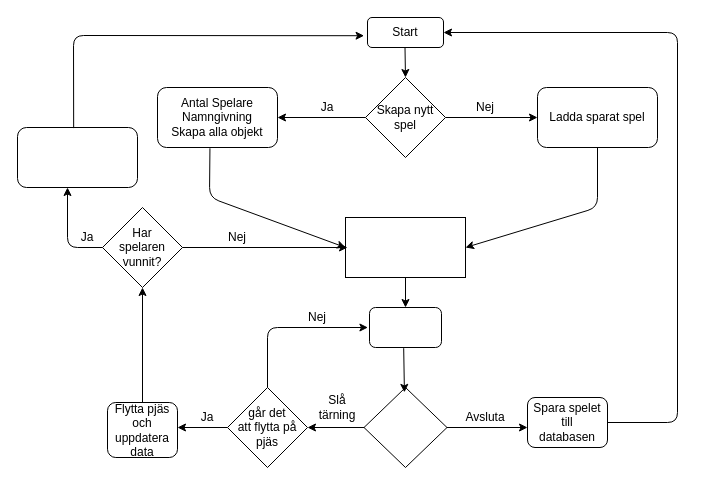
The diagram is 703 pixels wide and 485 high, and some of its shapes have lost their labels. Each missing label, with the box of its shape:
Rita spelbrädet med all inmatad data: (344, 216, 466, 278)
Slå tärning eller avsluta: (363, 386, 447, 468)
Spara resultat och avsluta spelet: (16, 126, 138, 188)
Vems tur?: (368, 306, 442, 348)
